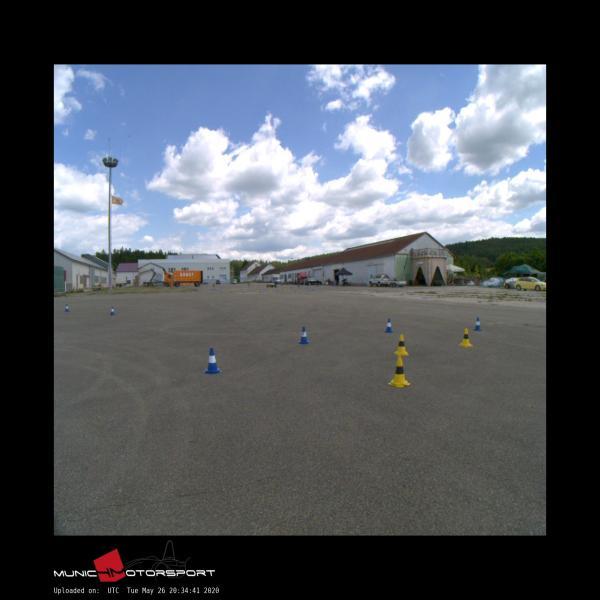blue_cone: (204, 347, 221, 374), (298, 327, 308, 343), (385, 318, 393, 333), (473, 317, 481, 330), (110, 307, 116, 315), (65, 303, 69, 312)
yellow_cone: (388, 356, 410, 387), (393, 334, 409, 355), (459, 329, 473, 346)
